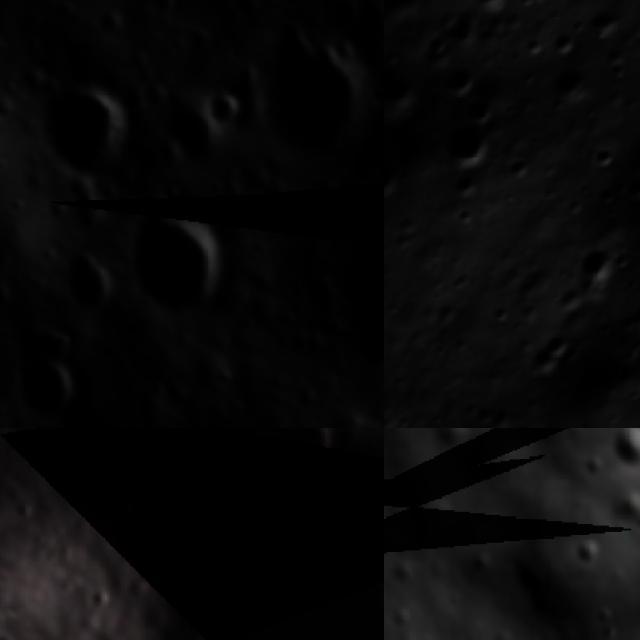crater: (262, 32, 371, 162), (125, 210, 238, 320), (40, 78, 139, 185), (11, 347, 80, 427), (252, 428, 346, 480), (436, 104, 505, 174), (160, 99, 222, 170), (60, 243, 117, 317), (524, 324, 578, 381), (502, 552, 557, 607), (438, 55, 488, 106), (548, 60, 598, 110), (341, 317, 384, 375), (579, 0, 632, 46), (293, 262, 341, 312), (202, 82, 249, 129), (571, 236, 616, 285), (602, 428, 640, 483), (446, 162, 491, 207), (568, 529, 613, 573), (95, 486, 139, 530), (582, 134, 624, 176), (384, 150, 415, 206), (546, 25, 588, 64), (462, 88, 501, 129), (444, 9, 484, 48), (125, 498, 165, 535), (180, 19, 217, 56), (421, 27, 457, 65), (504, 150, 539, 187), (148, 0, 182, 28), (69, 205, 100, 234), (469, 0, 518, 17), (217, 2, 246, 29), (0, 271, 12, 313), (502, 416, 543, 428), (51, 0, 77, 16), (0, 26, 11, 58)
